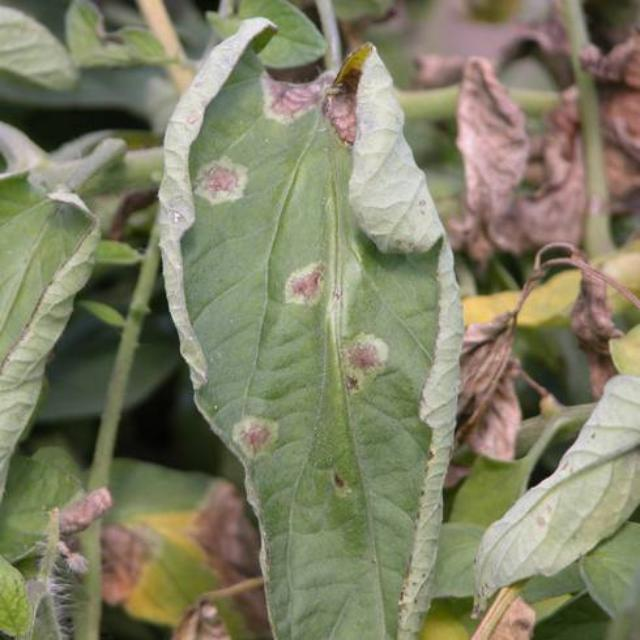Late_blight: (435, 37, 640, 266), (454, 234, 640, 465), (175, 471, 263, 640), (254, 62, 363, 146), (98, 521, 166, 616), (337, 328, 390, 393), (51, 484, 113, 534), (190, 154, 250, 203), (281, 257, 331, 312), (228, 412, 279, 458)
